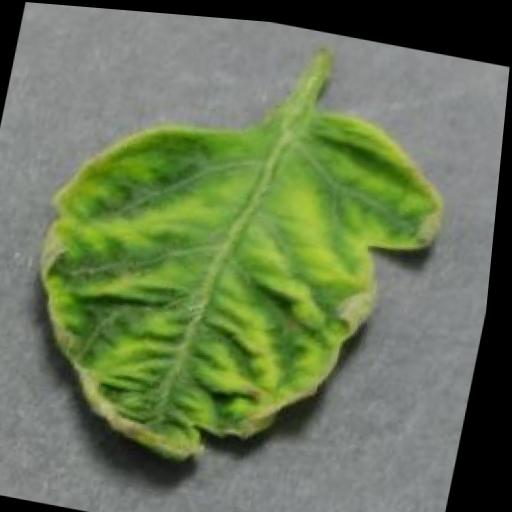Yellow Leaf Curl Virus: (13, 49, 463, 495)
